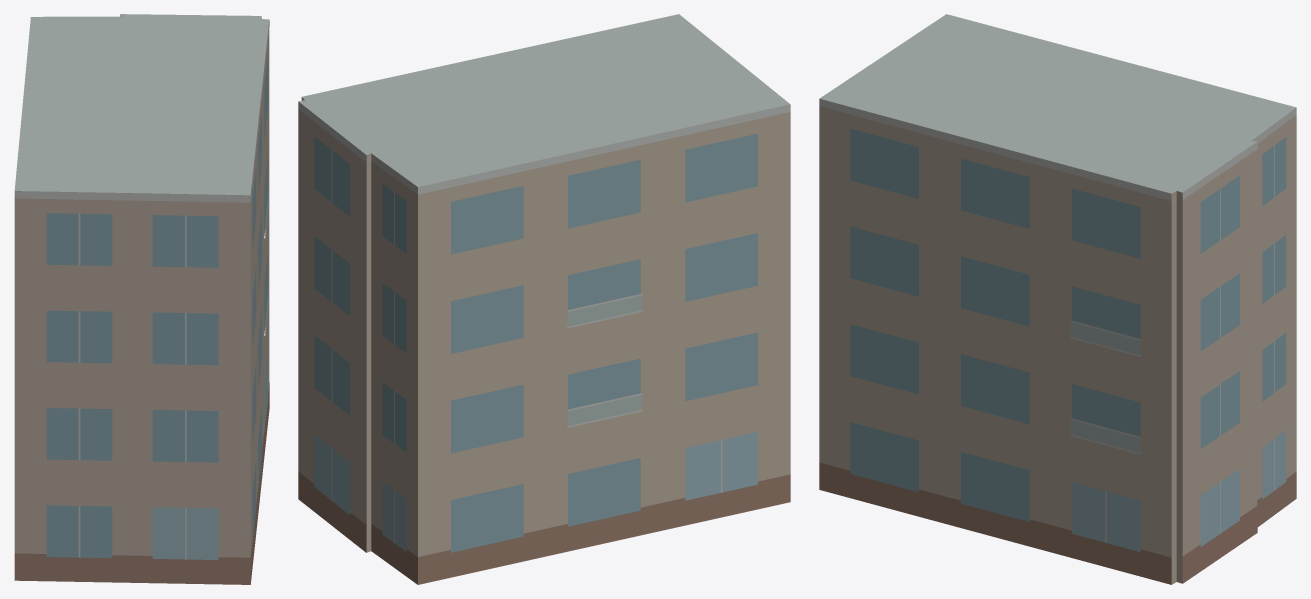
The model's file is survey-upis-33038379.glb.
3 renders of one model, left to right at view 1: azimuth 30°, elevation 25°; view 2: azimuth 150°, elevation 25°; view 3: azimuth 270°, elevation 25°, orthographic. The views are drawn at different scales.
Visible parts, largest first — view 1: survey-upis-33038379.tmp; view 2: survey-upis-33038379.tmp; view 3: survey-upis-33038379.tmp.
Boxes of the visible parts, <box> form: survey-upis-33038379.tmp: <box>14,14,269,584</box>; survey-upis-33038379.tmp: <box>298,14,790,584</box>; survey-upis-33038379.tmp: <box>819,14,1296,584</box>.
Bounding box in the file's own units: 12.62 × 12.8 × 14.17.
